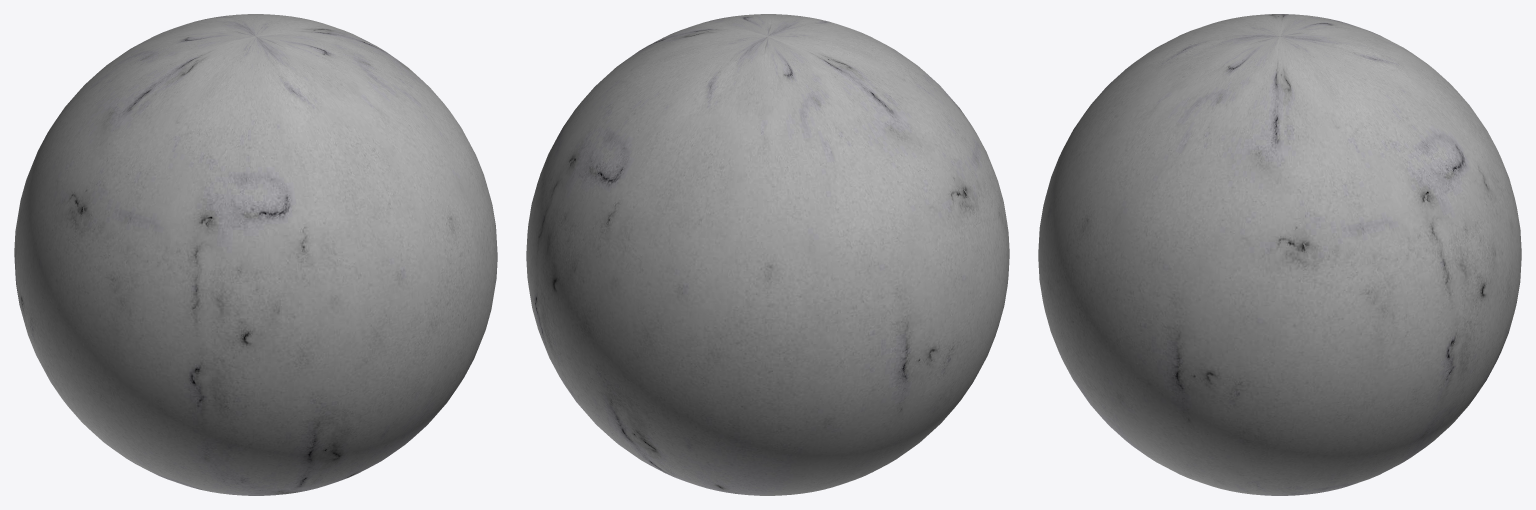
The model's file is snow_02_4k-transformed.glb.
3 renders of one model, left to right at view 1: azimuth 30°, elevation 25°; view 2: azimuth 150°, elevation 25°; view 3: azimuth 270°, elevation 25°, orthographic.
Visible parts, largest first — view 1: Sphere; view 2: Sphere; view 3: Sphere.
Boxes of the visible parts, <box> form: Sphere: <box>14,14,497,495</box>; Sphere: <box>526,14,1009,495</box>; Sphere: <box>1038,14,1521,495</box>.
Size of the model in its own units: 2 by 2 by 2.
Materials: 1 (1 with a texture image).
